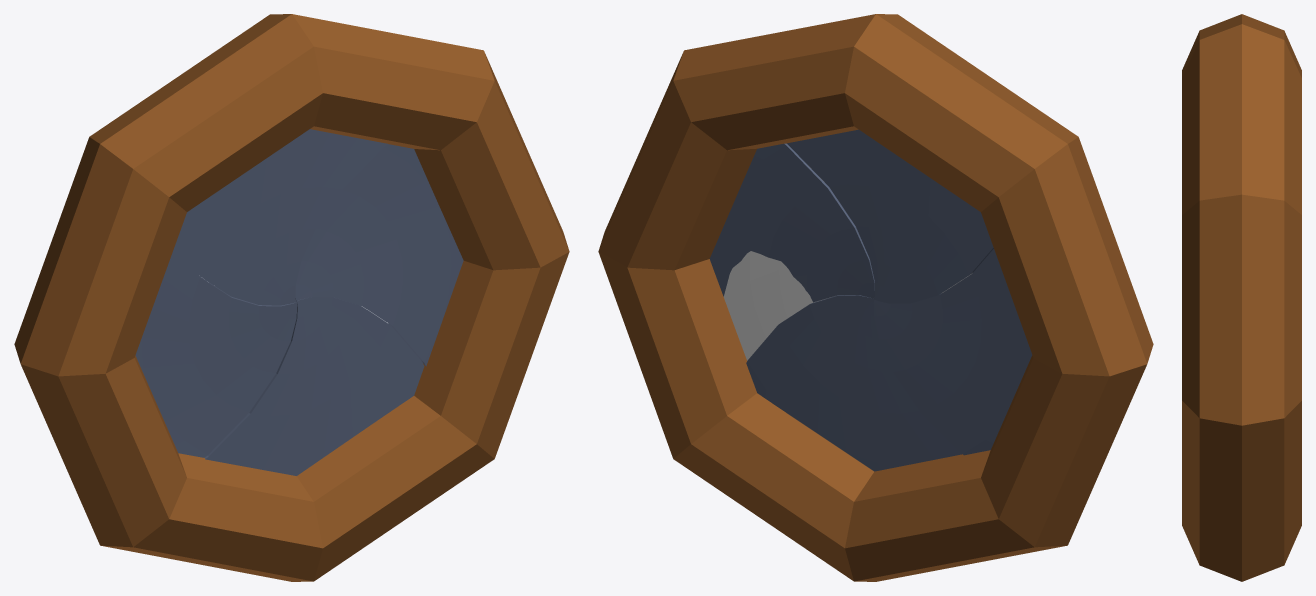
File: spiraldoor.glb
3 renders of one model, left to right at view 1: azimuth 30°, elevation 25°; view 2: azimuth 150°, elevation 25°; view 3: azimuth 270°, elevation 25°, orthographic. The views are drawn at different scales.
Visible parts, largest first — view 1: Torus, primeFlap, Circle.004, Circle.002, Circle.003; view 2: Torus, primeFlap, Circle.002, Circle.003, Circle.004, Circle; view 3: Torus.
Boxes of the visible parts, x1,y1,x2,y2 form: Torus: [14, 14, 569, 581]; primeFlap: [204, 297, 424, 475]; Circle.004: [295, 144, 463, 366]; Circle.002: [135, 247, 297, 457]; Circle.003: [174, 129, 387, 305]; Torus: [598, 14, 1153, 581]; primeFlap: [746, 295, 961, 471]; Circle.002: [873, 249, 1032, 455]; Circle.003: [786, 129, 993, 303]; Circle.004: [709, 143, 874, 302]; Circle: [723, 165, 972, 360]; Torus: [1182, 14, 1301, 581].
Size of the model in its own units: 2.52 by 2.52 by 0.5.
Materials: 1 (1 with a texture image).
